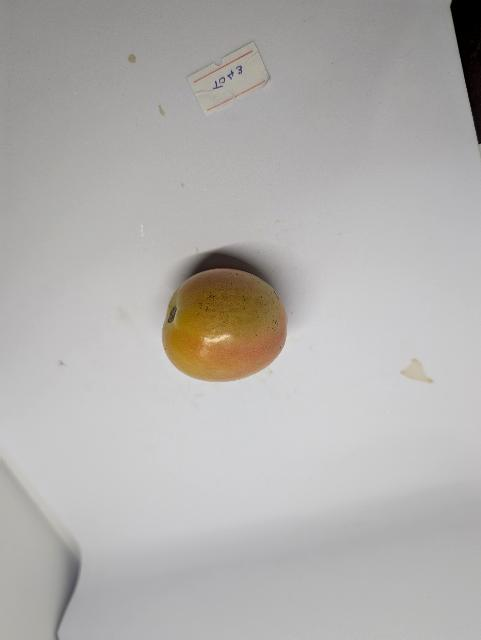turning: (153, 266, 296, 397)
